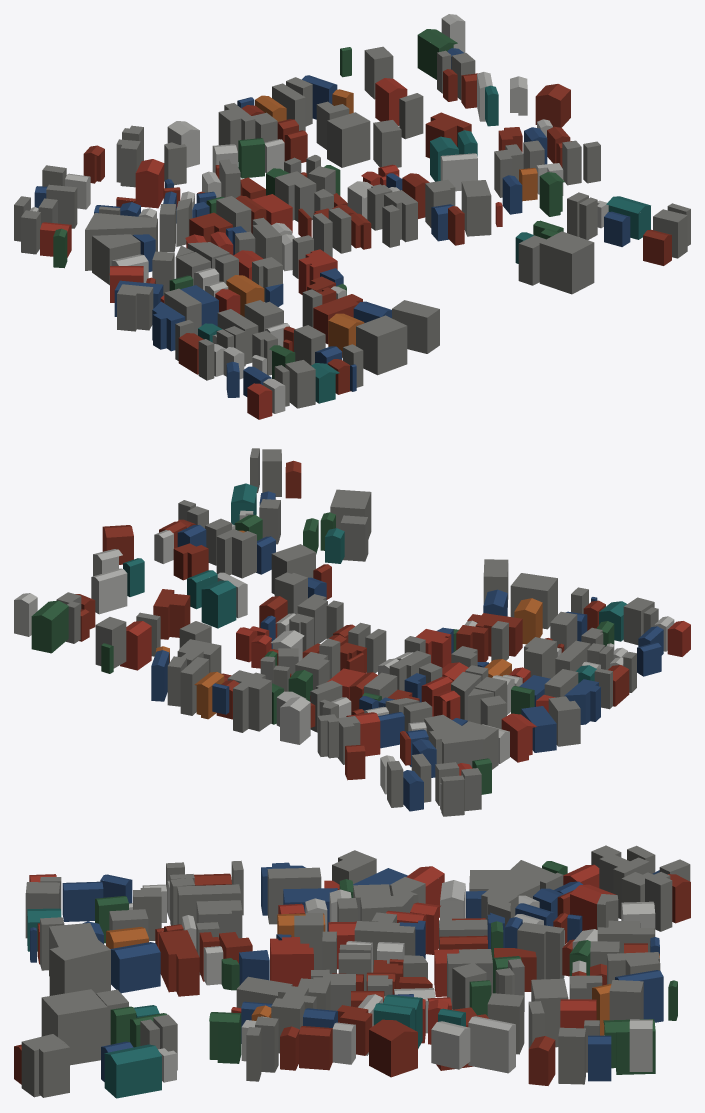
Rendered from near-17-109445-59472.288efbd6.glb.
3 renders of one model, top to bottom at view 1: azimuth 30°, elevation 25°; view 2: azimuth 150°, elevation 25°; view 3: azimuth 270°, elevation 25°, orthographic. The views are drawn at different scales.
Size of the model in its own units: 311 by 77.97 by 304.
